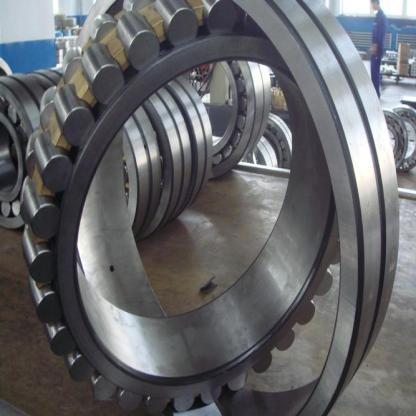FOD: (22, 0, 402, 415)
